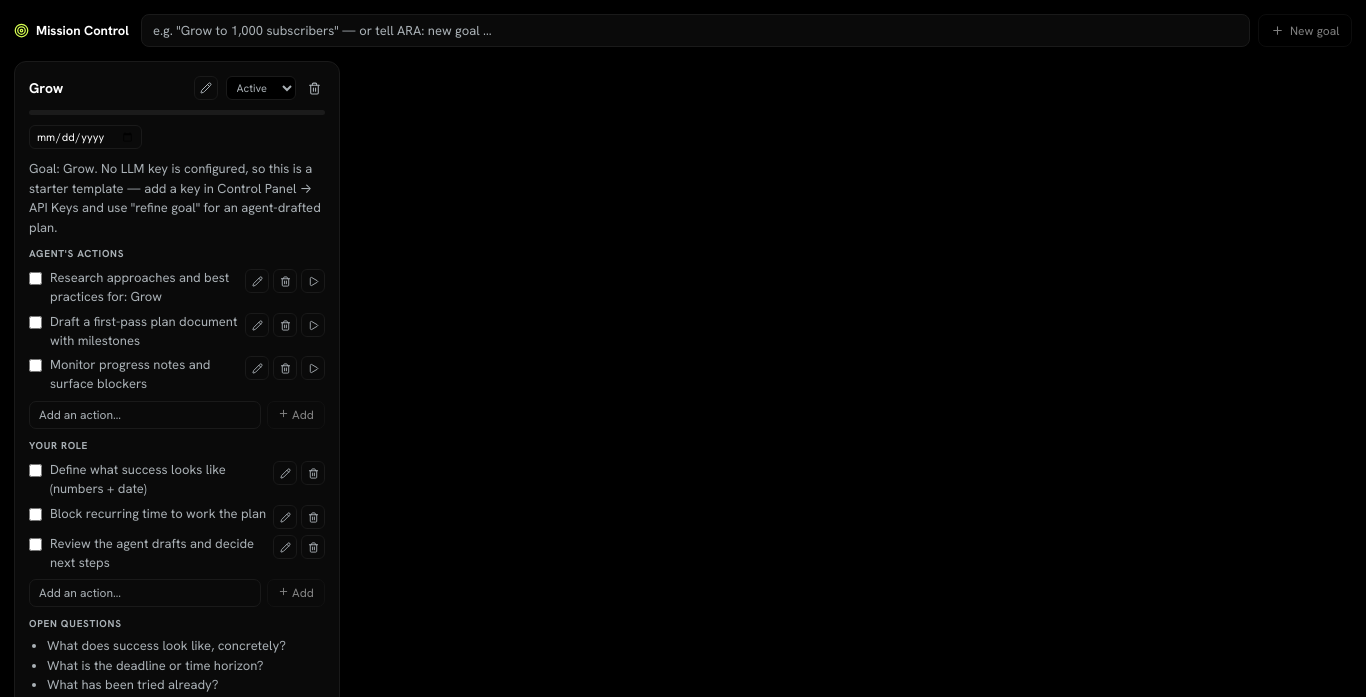
Test: run with agent › no-llm -> alert
Click the button named "Run with agent: Research approaches and best practices for:". click: (312, 281)
box: [300, 269, 324, 293]
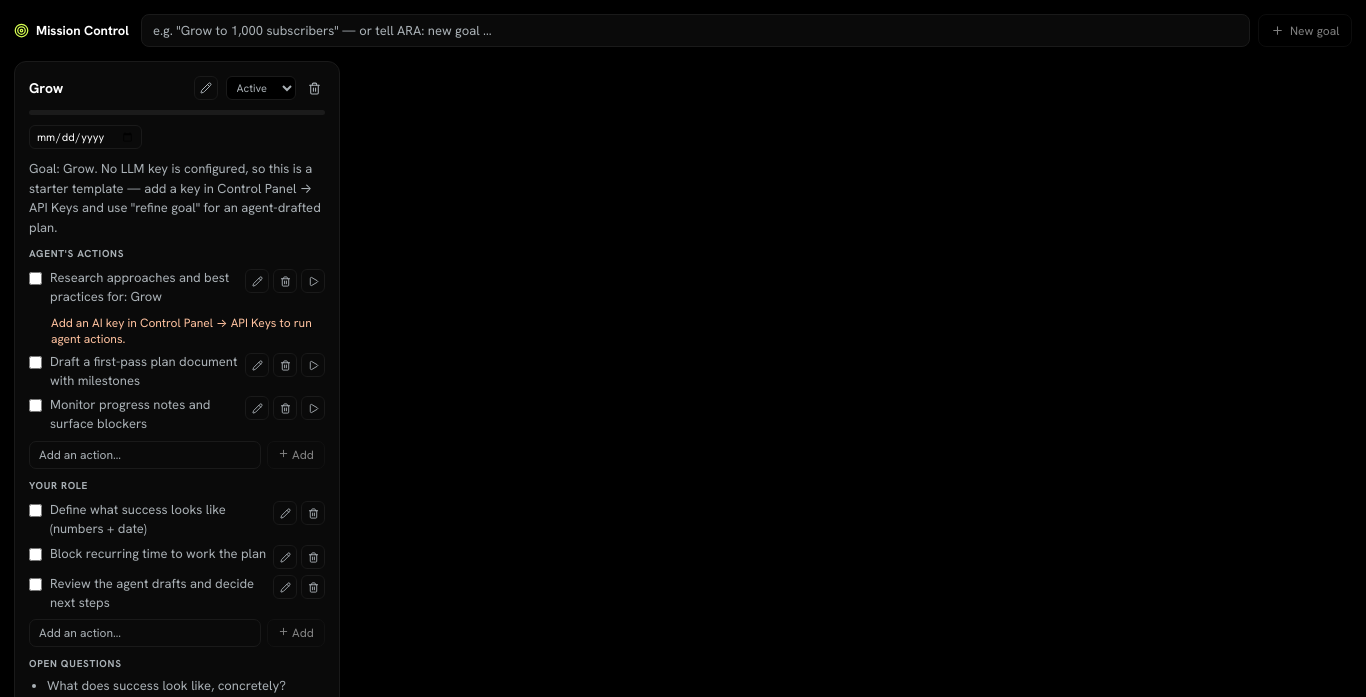
Expected: the text "Add an AI key in Control Panel → API Keys to run agent actions." is shown, [51, 315, 324, 347]
